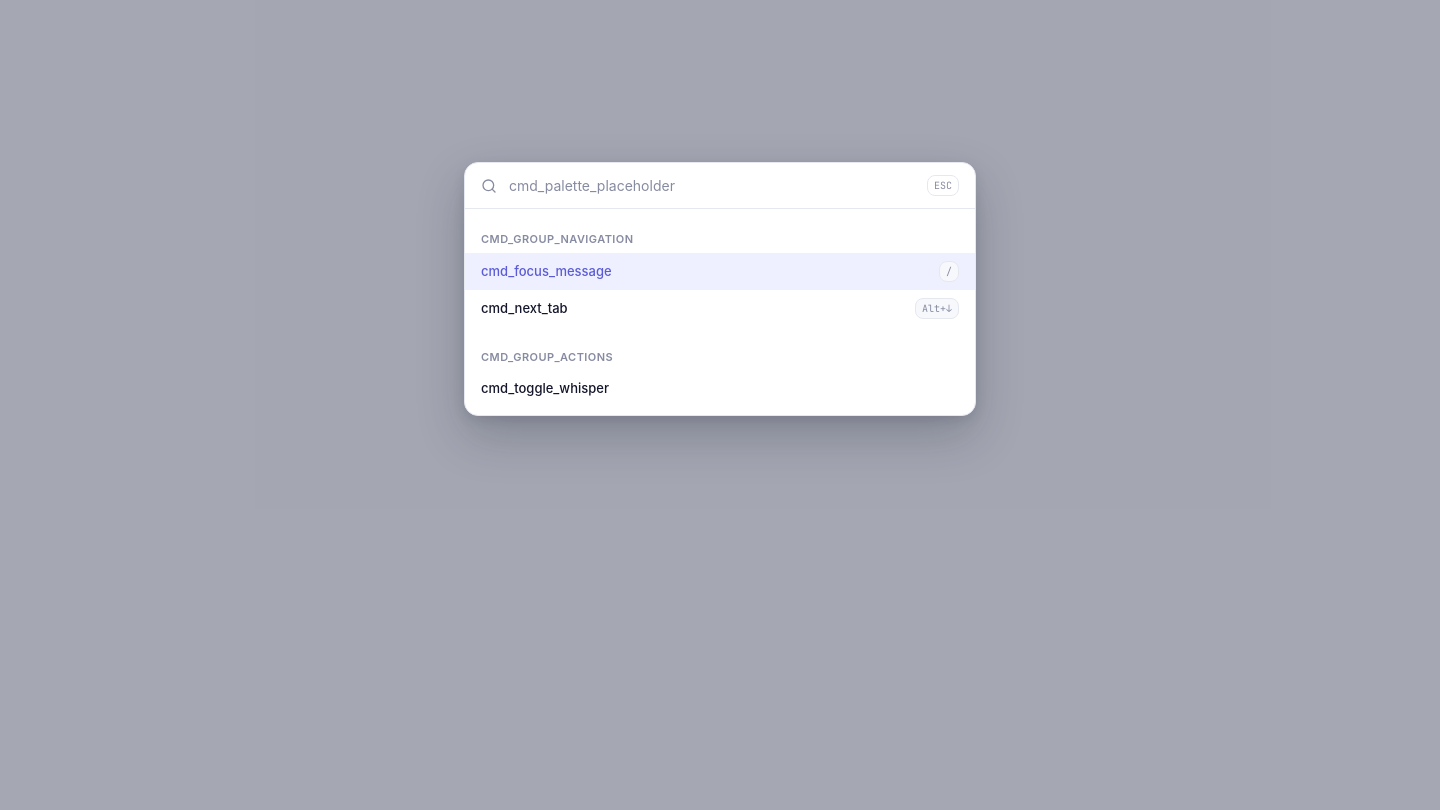
Scenario: CommandPalette › shows no-results message when nothing matches
Type "xyznonexistent" into the field with placeholder "cmd_palette_placeholder" at (712, 186), box [509,175,915,196]
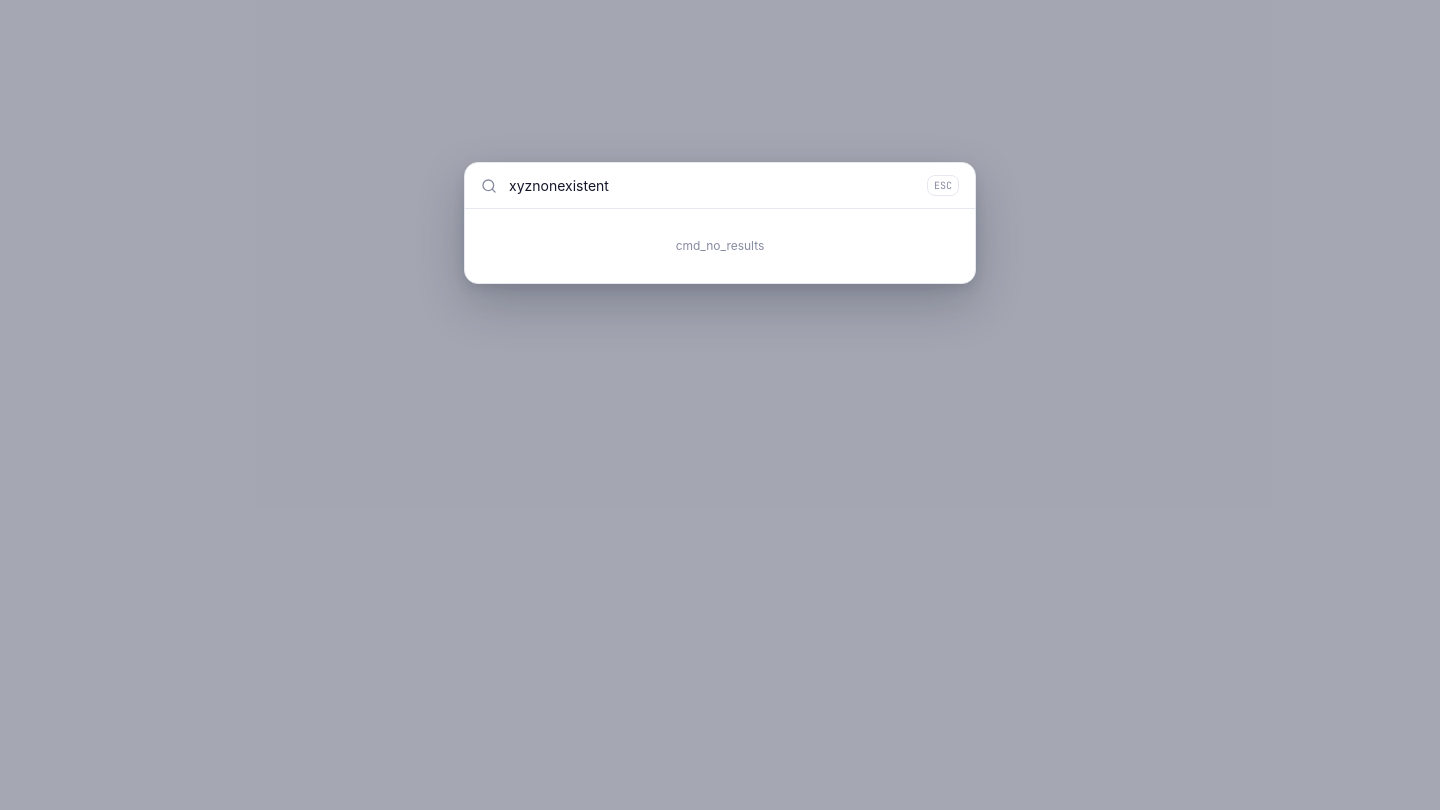
Result: the text "cmd_no_results" is shown at [676,238,764,253]
